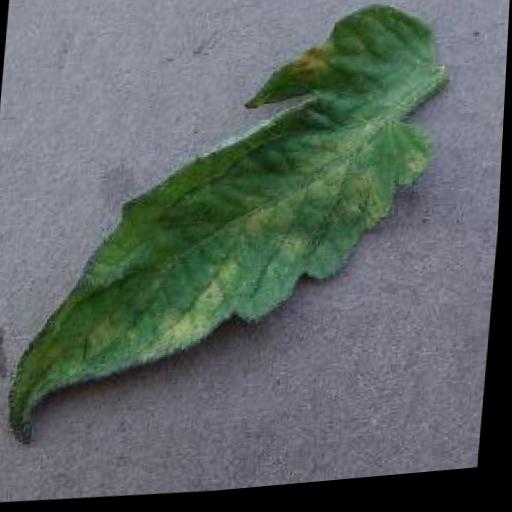Leaf Mold: (8, 0, 450, 453)
